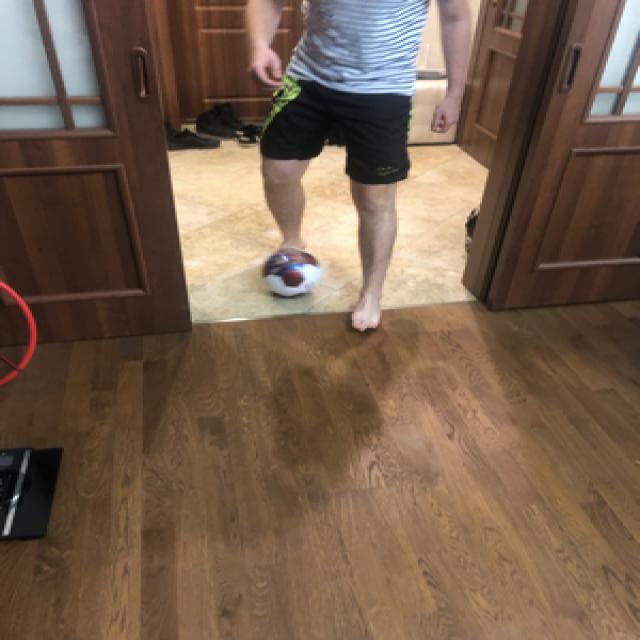soccer_ball: (256, 245, 320, 294)
